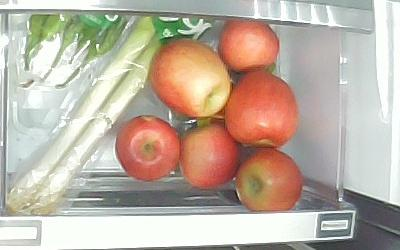apple: (149, 39, 232, 117), (225, 71, 299, 148), (115, 116, 183, 181), (180, 124, 242, 191), (235, 150, 302, 210), (218, 20, 279, 71), (220, 20, 279, 72)
